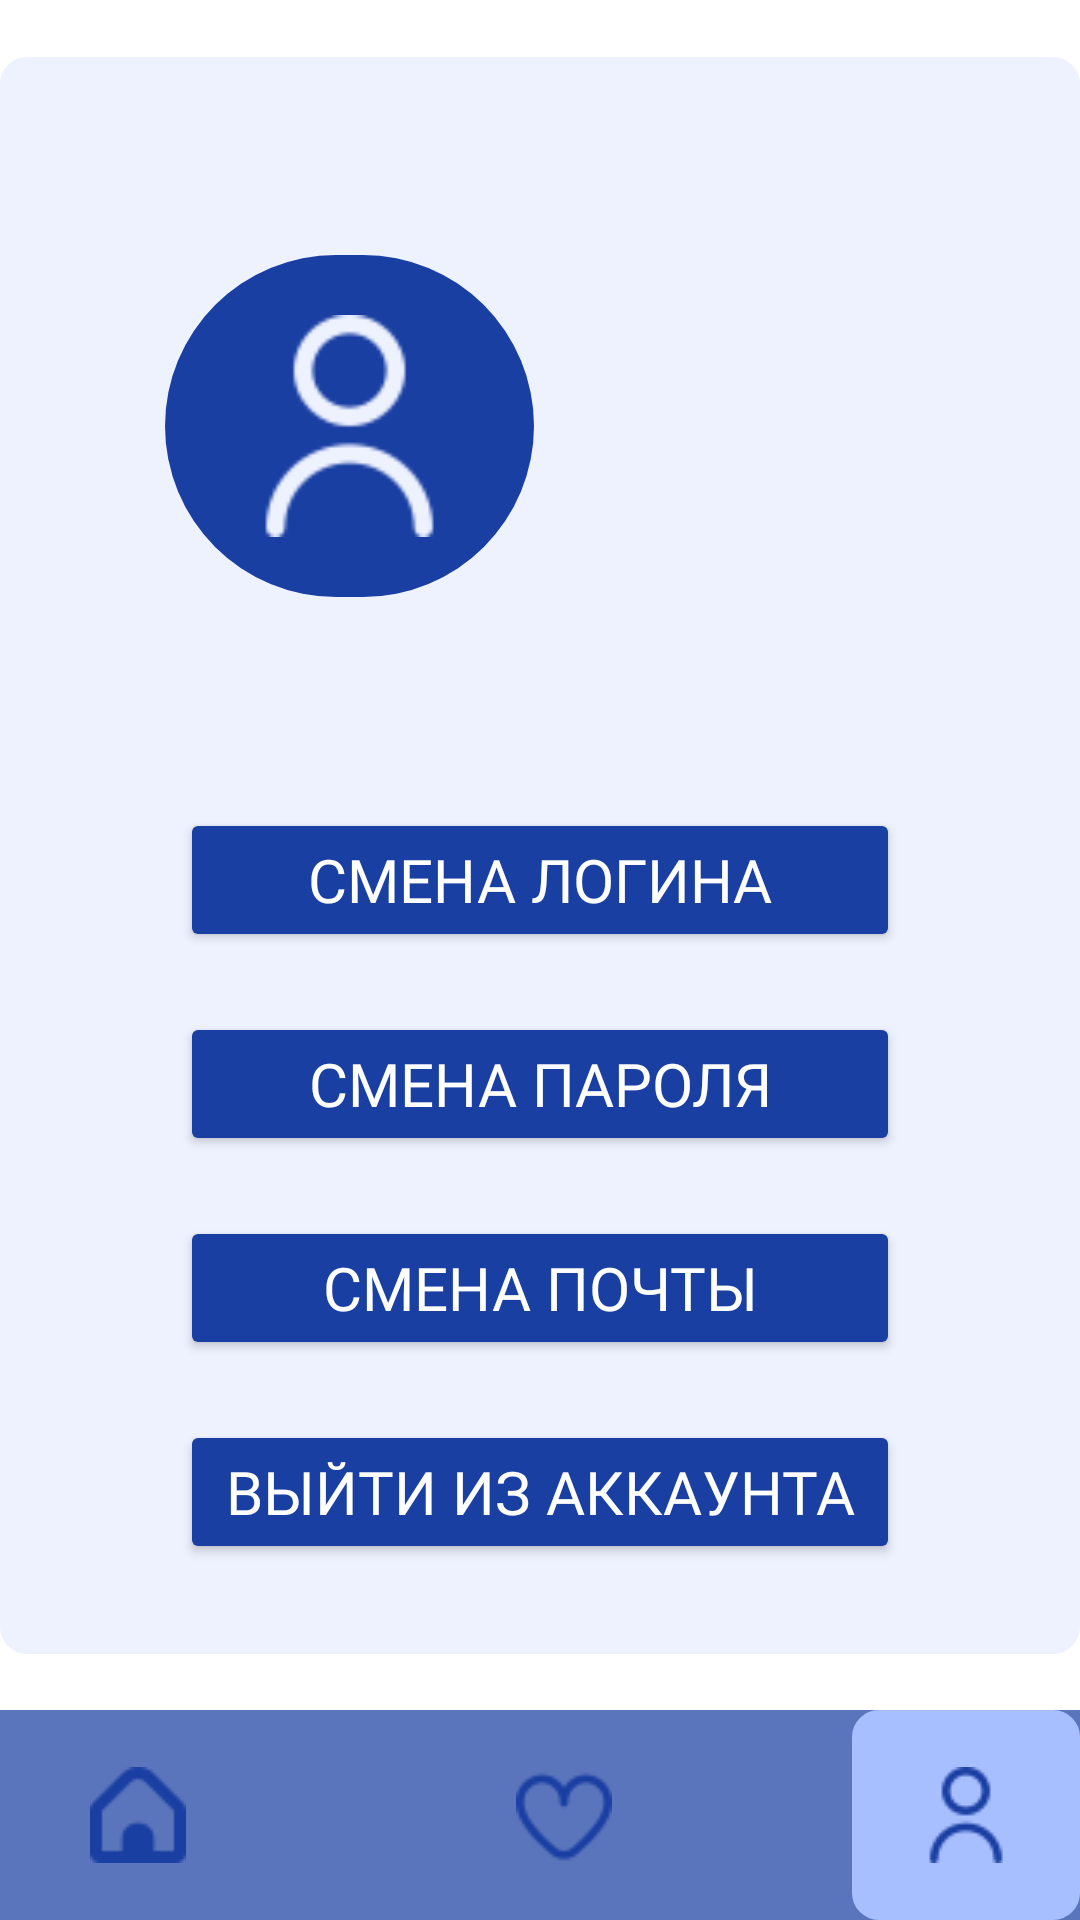

Icon click points for this 1080×1920 phone screenshot, format [x,y]:
iconheart: [564,1817]
iconhome: [138,1815]
iconuser: [966,1815]
